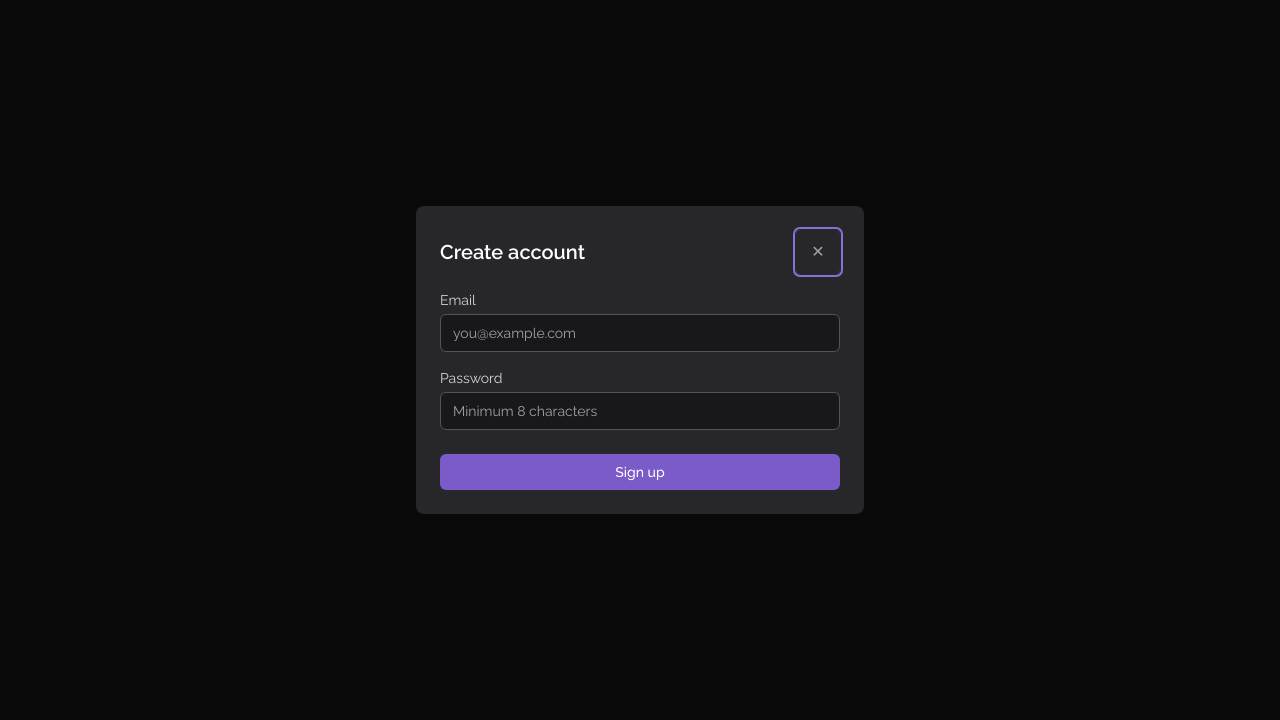
SignUpModal › shows an email format error when the email is not a valid address
In the field labelled "Email": coordinates (640, 333) [440,314,840,352], type "not-an-email"
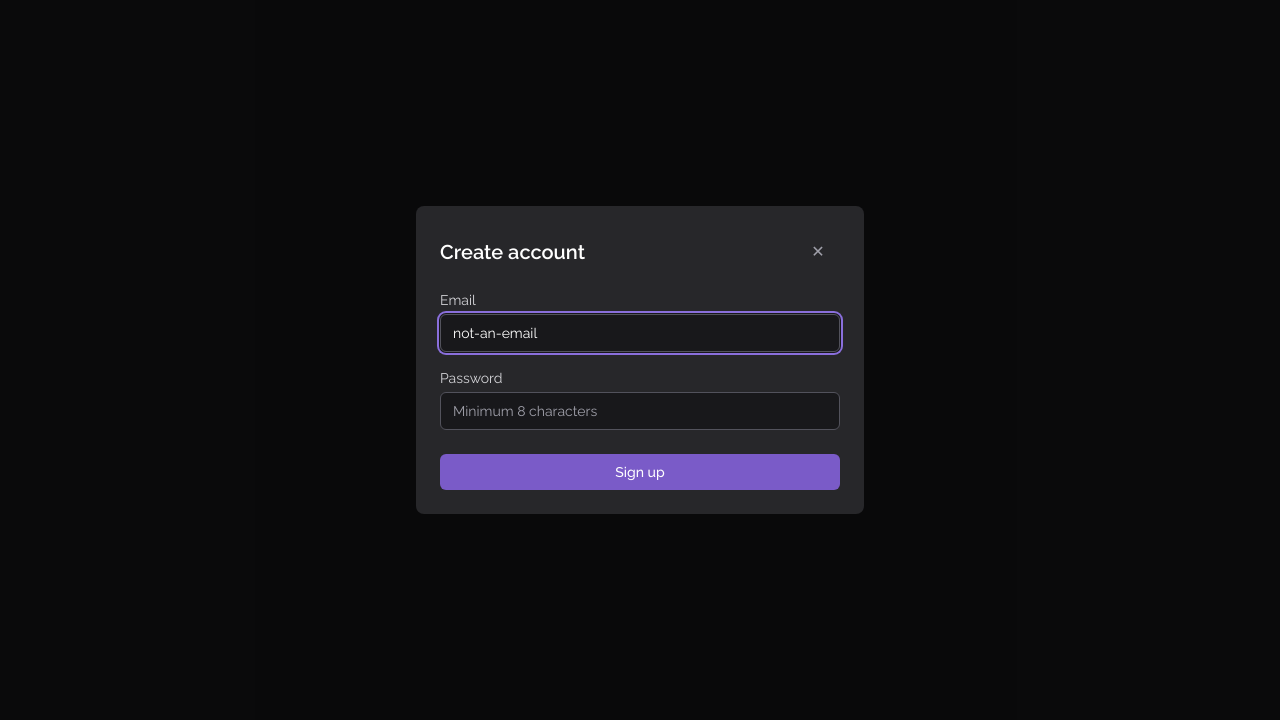
Click the button "Sign up": coordinates (640, 472) [440,454,840,490]
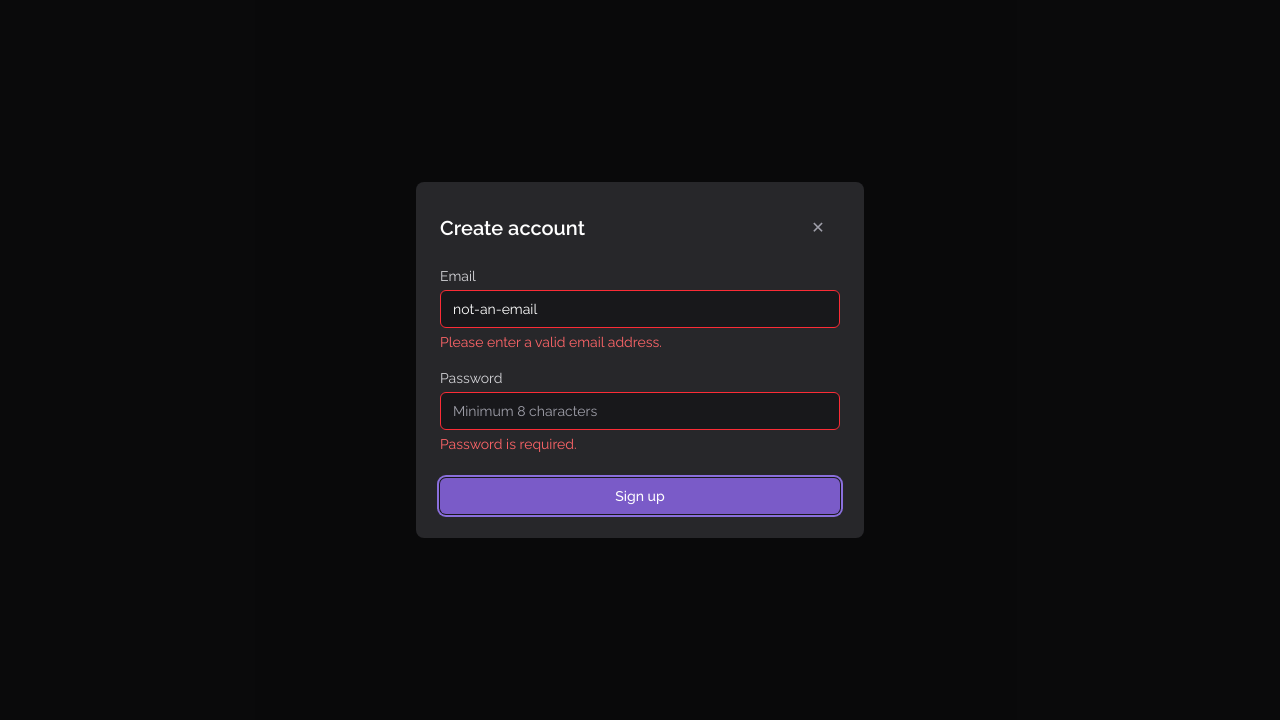
Now the text "Please enter a valid email address." is shown, box [440,334,662,350]
